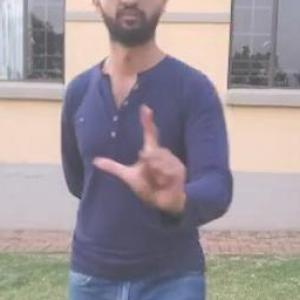land_hand: (92, 97, 190, 203)
